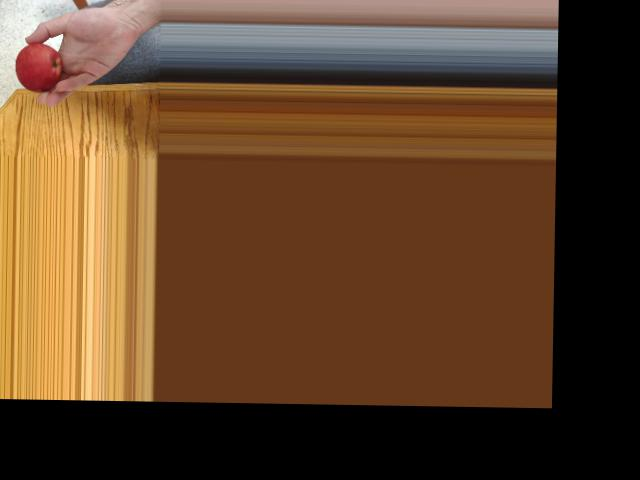apple: (11, 45, 62, 93)
